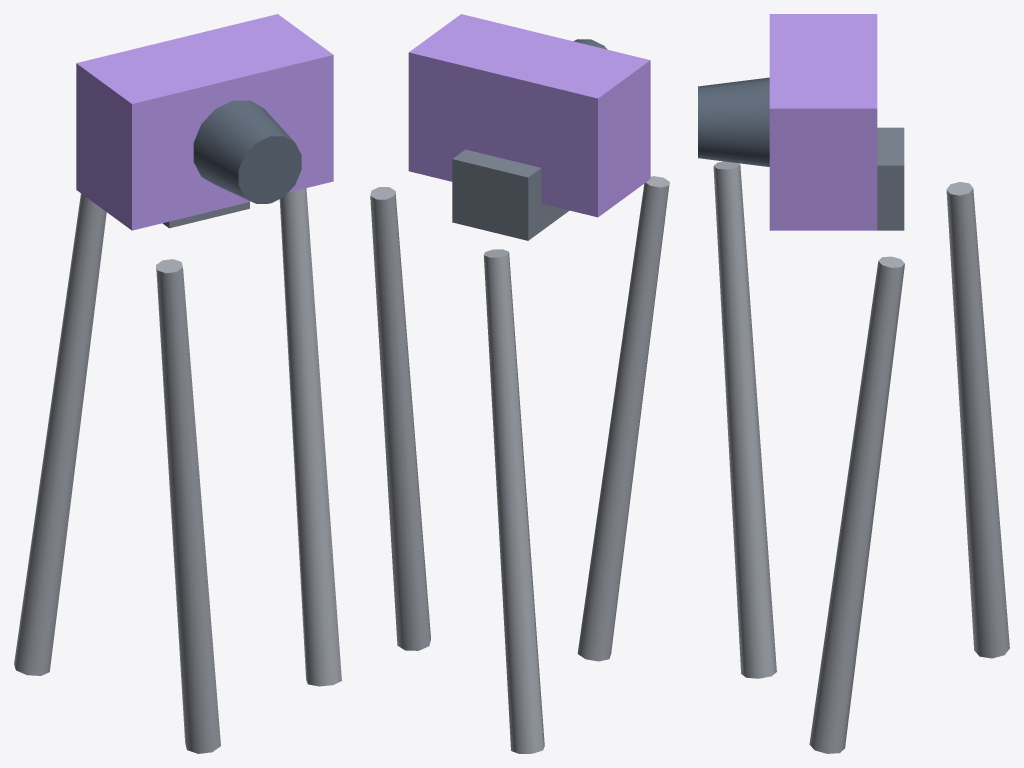
Rendered from eo_ir_camera.glb.
3 renders of one model, left to right at view 1: azimuth 30°, elevation 25°; view 2: azimuth 150°, elevation 25°; view 3: azimuth 270°, elevation 25°, orthographic. The views are drawn at different scales.
Size of the model in its own units: 0.296 by 0.7752 by 0.3478.
